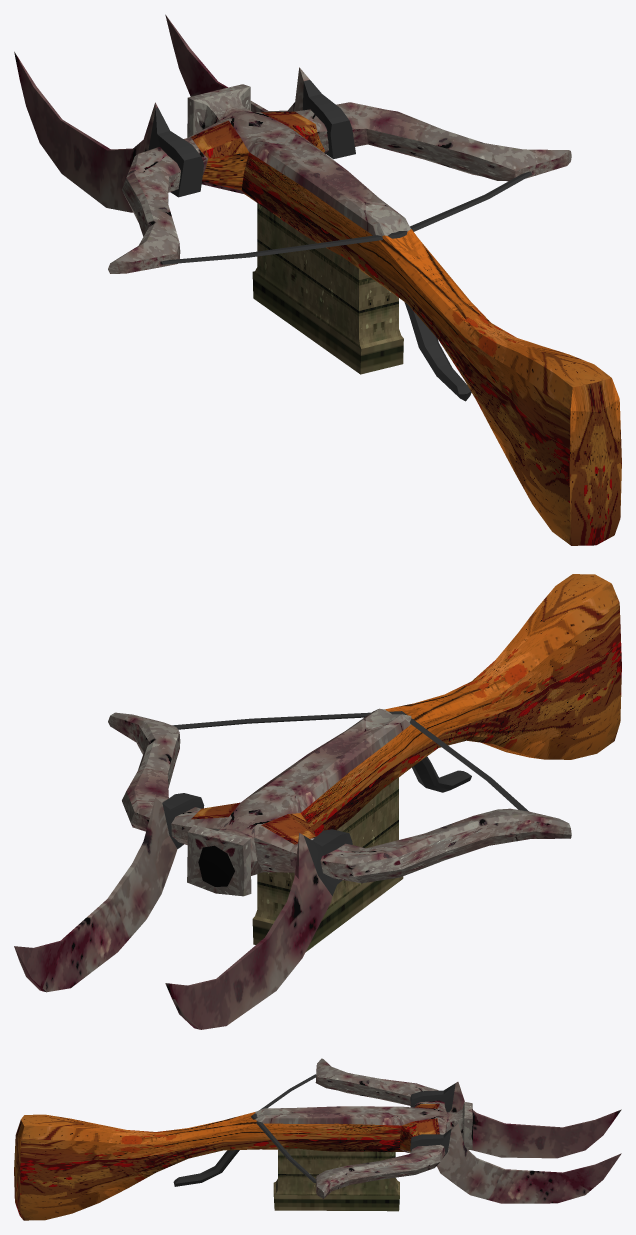
The model's file is crossbow.fbx.
The picture shows the model from 3 angles, top to bottom: view 1: azimuth 30°, elevation 25°; view 2: azimuth 150°, elevation 25°; view 3: azimuth 270°, elevation 25°; orthographic projection. The views are drawn at different scales.
Visible parts, largest first — view 1: Cube; view 2: Cube; view 3: Cube.
Part boxes in pixels (<box>): Cube: <box>14,14,621,545</box>; Cube: <box>14,574,621,1029</box>; Cube: <box>14,1058,621,1220</box>.
Size of the model in its own units: 830 by 326 by 1585.
5 materials, 3 textured.
